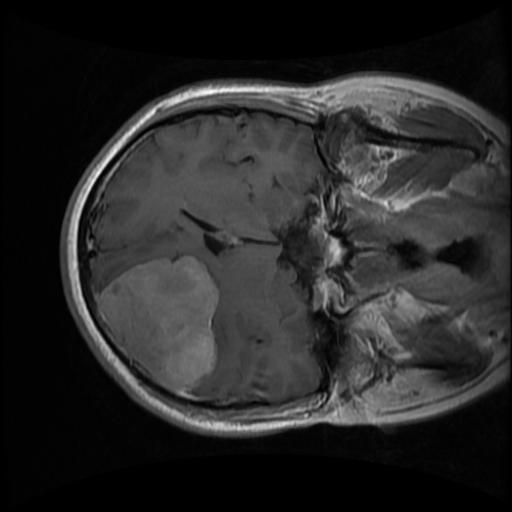meningioma: (95, 254, 220, 393)
